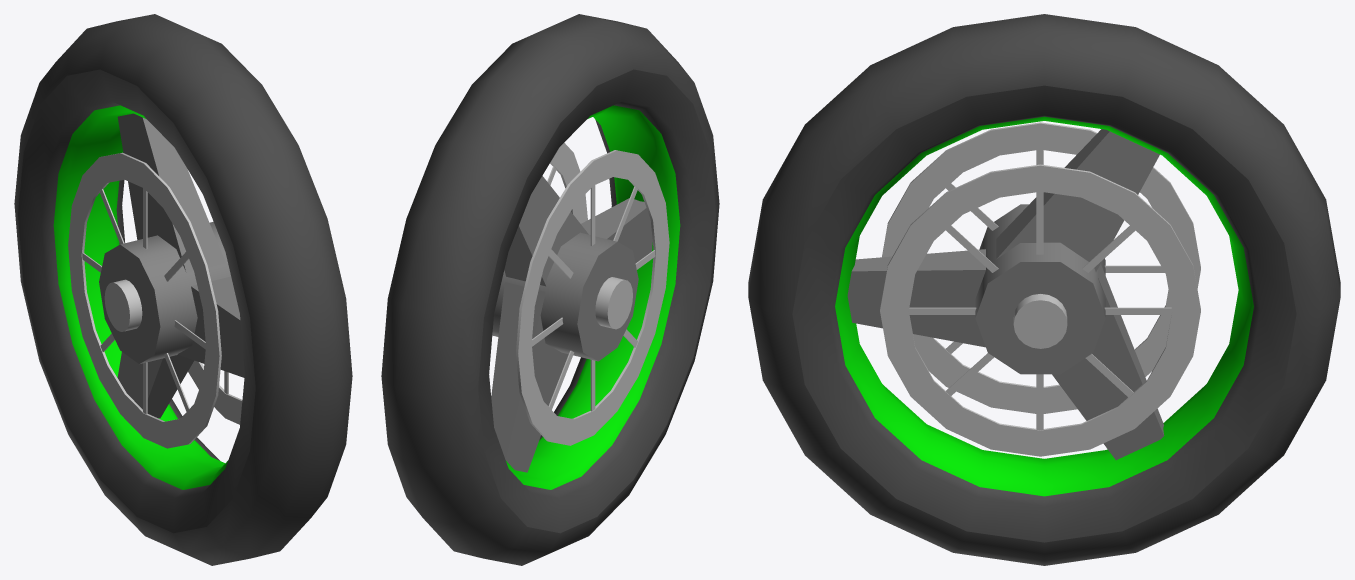
Rendered from bike_sport_wheel_front.fbx.
3 views of the same model, side by side, from view 1: azimuth 30°, elevation 25°; view 2: azimuth 150°, elevation 25°; view 3: azimuth 270°, elevation 25° (orthographic). The views are drawn at different scales.
Visible parts, largest first — view 1: polySurface128; view 2: polySurface128; view 3: polySurface128.
Boxes of the visible parts, left/top/right/bottom form: polySurface128: left=14, top=14, right=352, bottom=565; polySurface128: left=381, top=14, right=719, bottom=565; polySurface128: left=748, top=14, right=1340, bottom=565.
Bounding box in the file's own units: 17.9 × 63.68 × 63.68.
